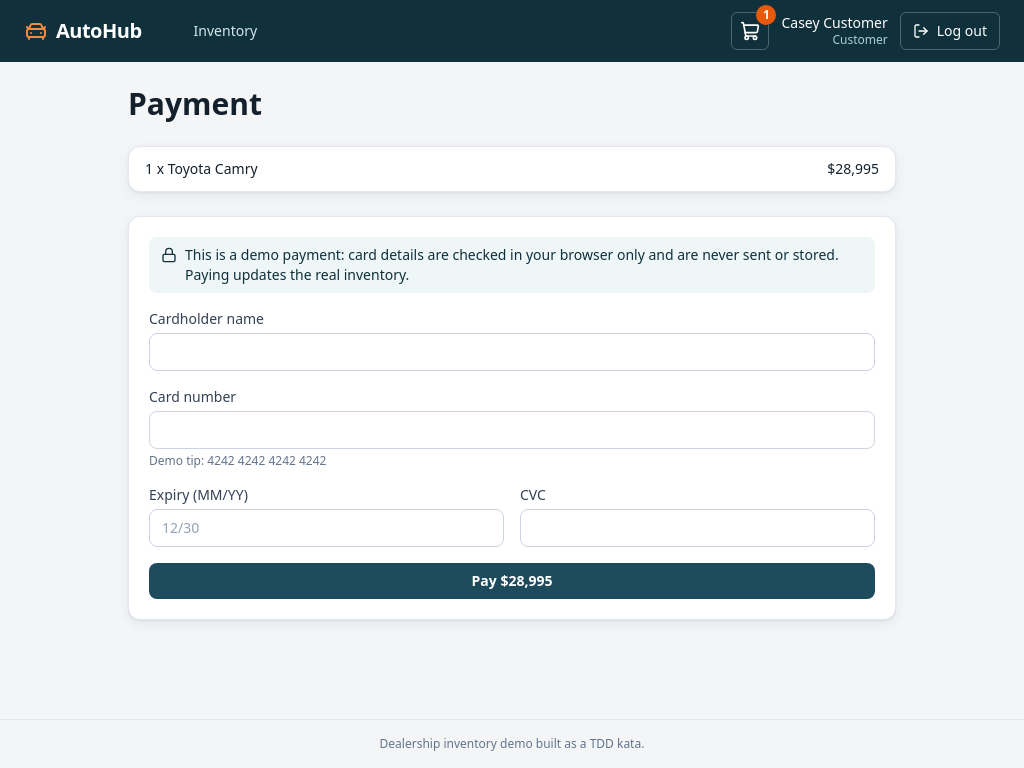
Scenario: Payment page › rejects a badly formatted expiry
Expected: the heading "Payment" is shown, [128,83,262,124]
In the field labelled "Cardholder name": (512, 352) [149,333,875,371], type "Casey Customer"
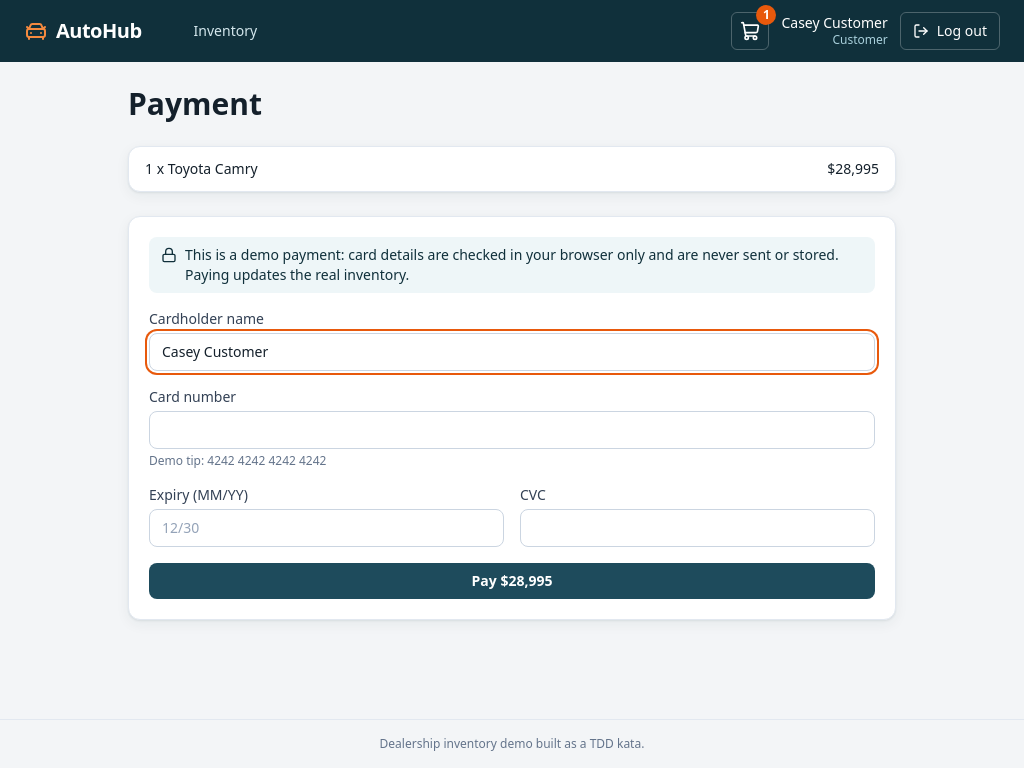
In the field labelled "Card number": (512, 430) [149,411,875,449], type "4242 4242 4242 4242"
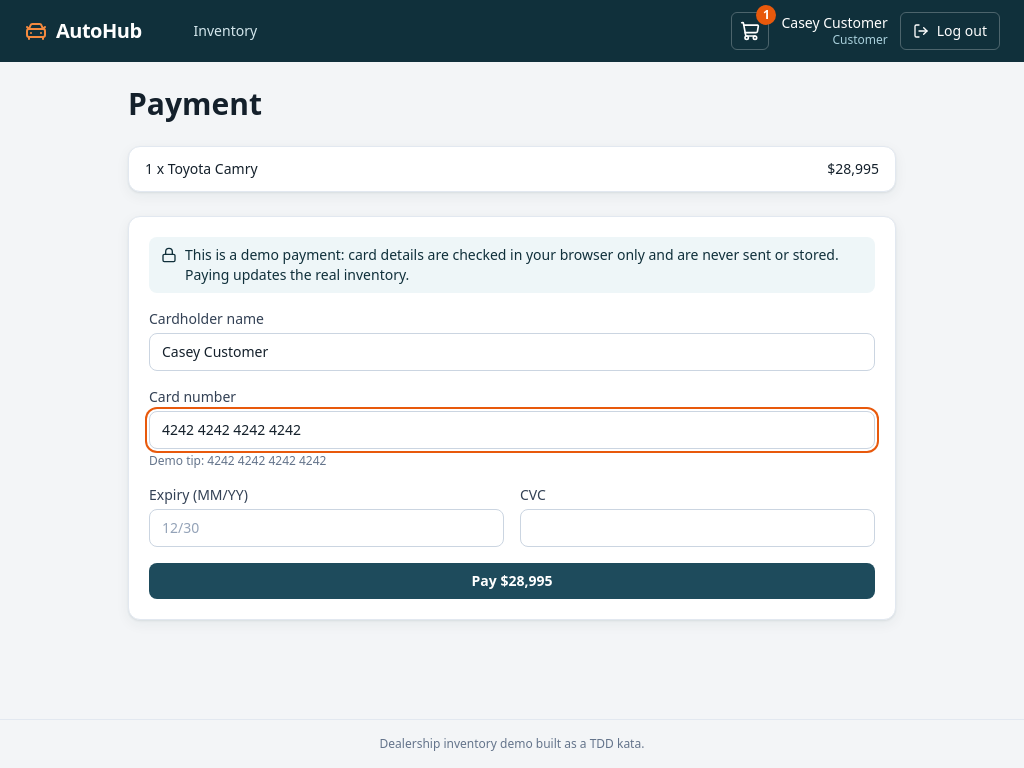
In the field labelled "Expiry (MM/YY)": (326, 528) [149,509,504,547], type "1299"
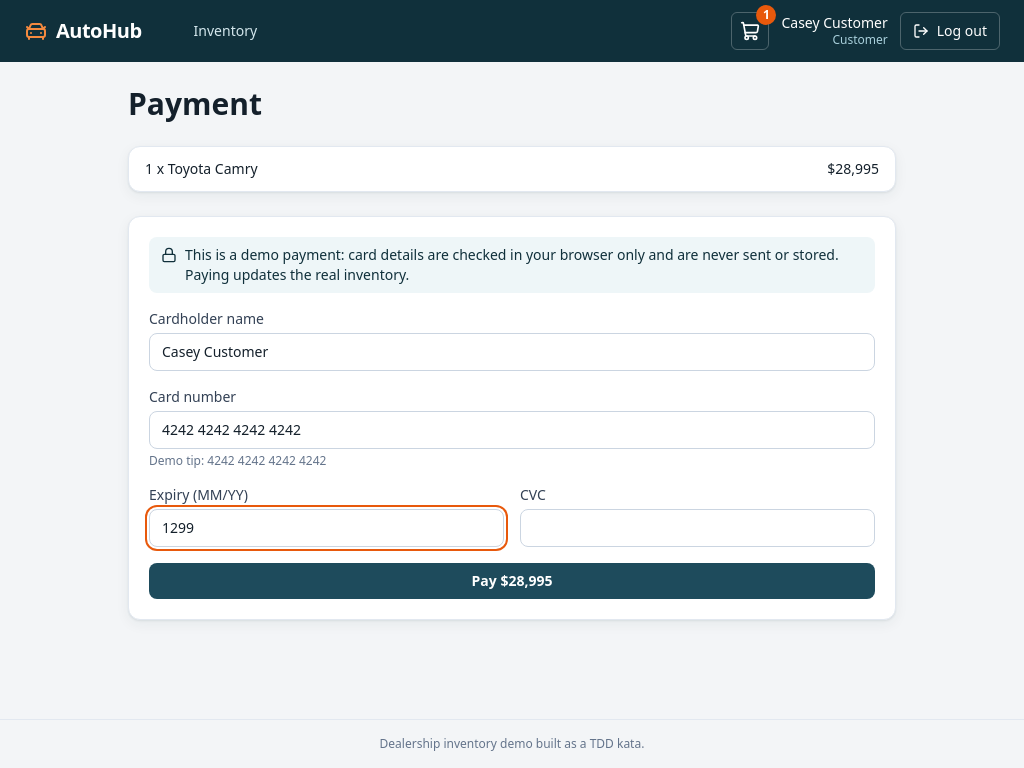
In the field labelled "CVC": (698, 528) [520,509,875,547], type "123"
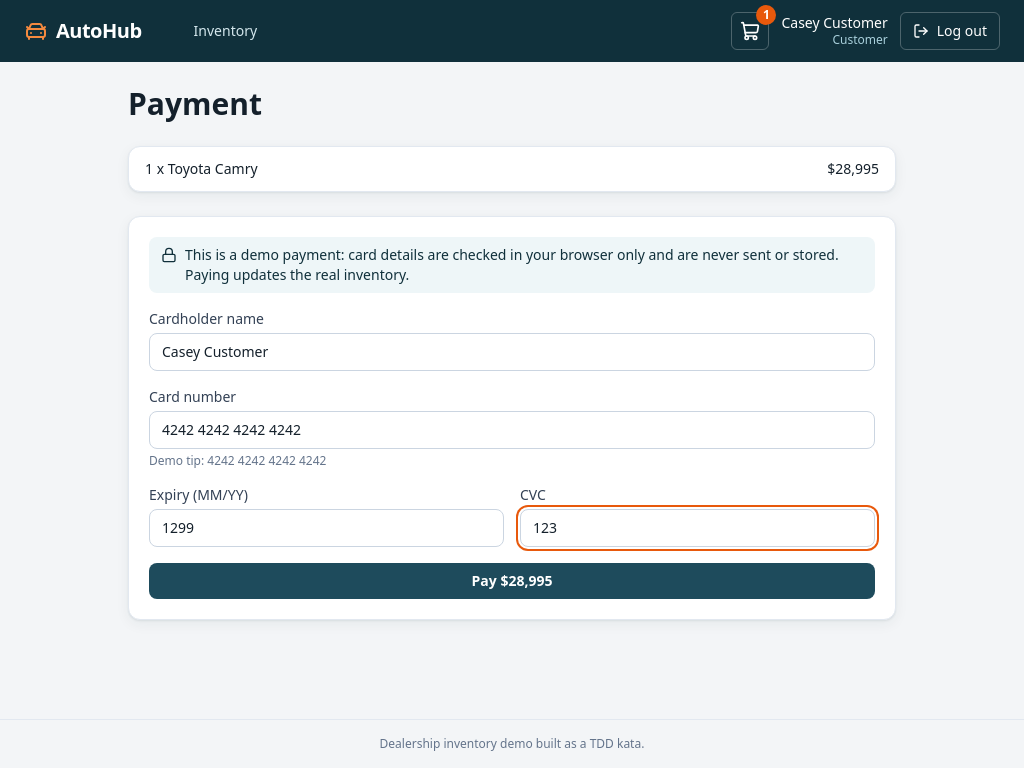
Click the button "Pay $28,995": (512, 581) [149,563,875,599]
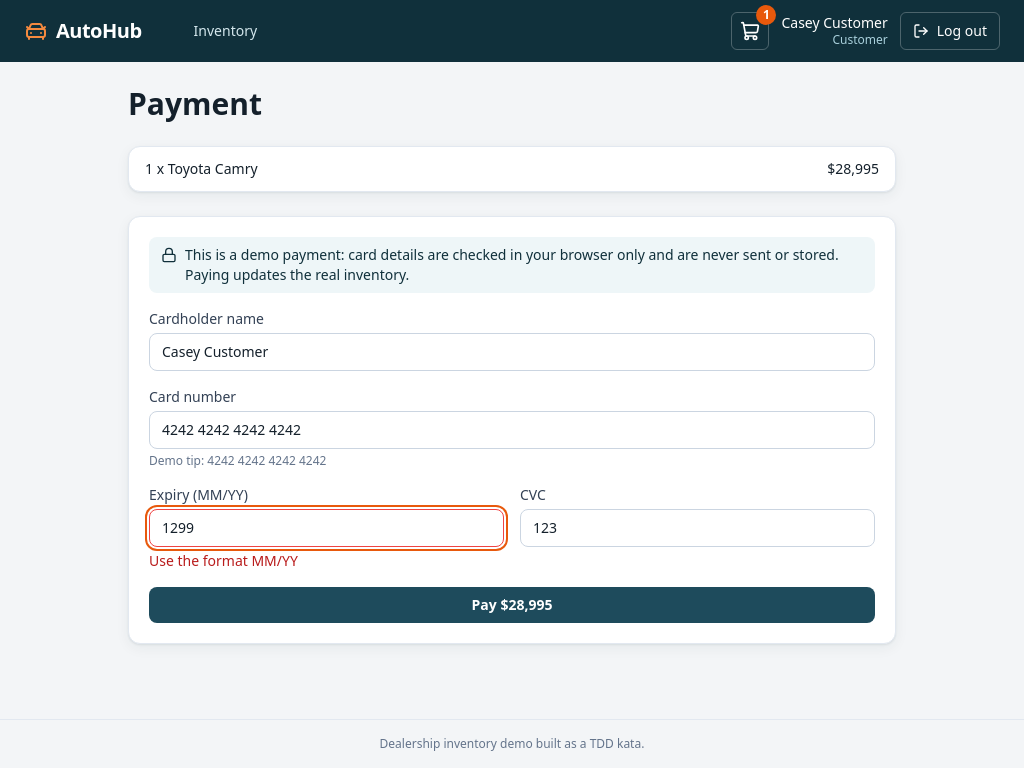
Expected: the text "Use the format MM/YY" is shown, [149,551,298,570]
